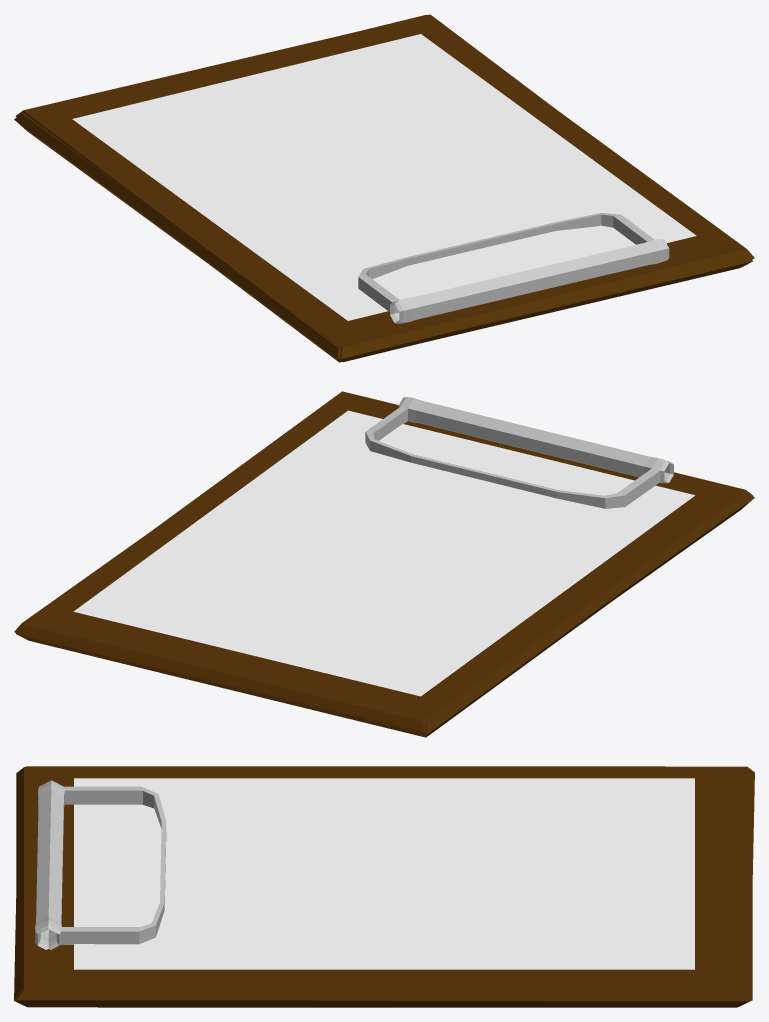
The model's file is Clipboard.fbx.
3 views of the same model, one above another, from view 1: azimuth 30°, elevation 25°; view 2: azimuth 150°, elevation 25°; view 3: azimuth 270°, elevation 25° (orthographic). The views are drawn at different scales.
Visible parts, largest first — view 1: Paper, ClipBoardBottom1, ClipBoardBottom, ClipBoardTop1; view 2: Paper, ClipBoardBottom1, ClipBoardBottom, ClipBoardTop1; view 3: Paper, ClipBoardBottom1, ClipBoardBottom, ClipBoardTop1.
Boxes of the visible parts, x1,y1,x2,y2 form: Paper: [72, 34, 696, 320]; ClipBoardBottom1: [15, 14, 752, 362]; ClipBoardBottom: [14, 14, 754, 362]; ClipBoardTop1: [358, 212, 669, 323]; Paper: [73, 410, 694, 696]; ClipBoardBottom1: [14, 491, 754, 733]; ClipBoardBottom: [15, 391, 753, 737]; ClipBoardTop1: [365, 397, 673, 508]; Paper: [74, 778, 694, 969]; ClipBoardBottom1: [14, 766, 754, 1007]; ClipBoardBottom: [16, 767, 752, 1006]; ClipBoardTop1: [35, 780, 166, 949].
Size of the model in its own units: 0.372 by 0.0349 by 0.5067.
Materials: 3 (3 with a texture image).
